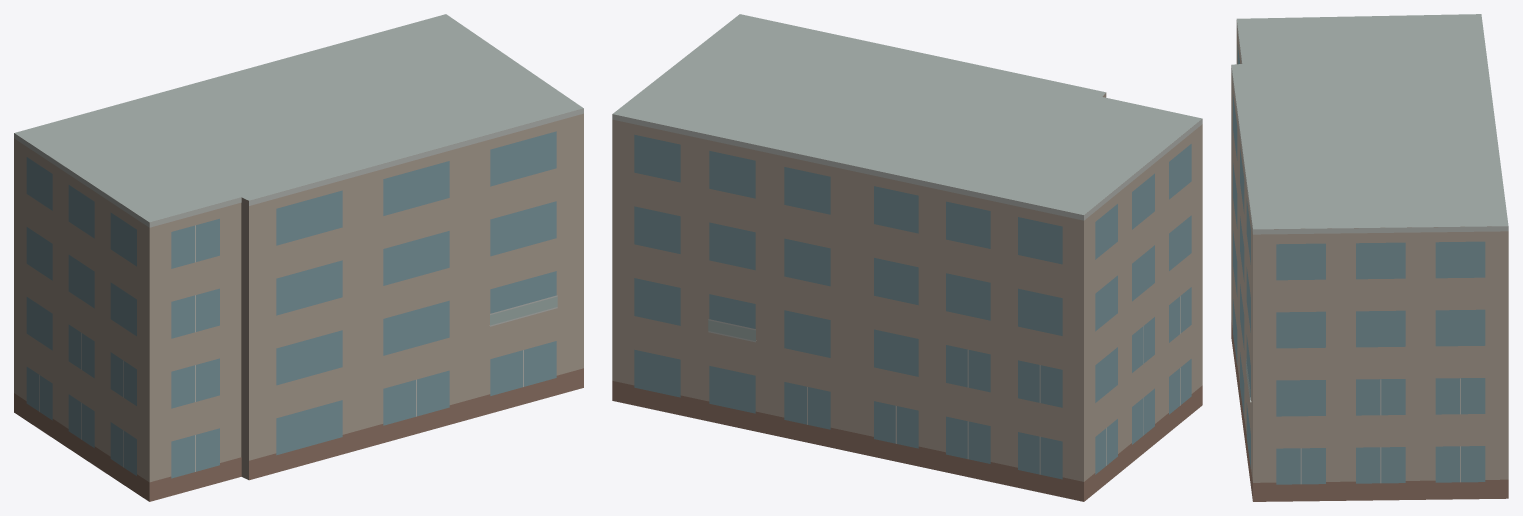
Rendered from survey-upis-32701667.glb.
The picture shows the model from 3 angles, left to right: view 1: azimuth 30°, elevation 25°; view 2: azimuth 150°, elevation 25°; view 3: azimuth 270°, elevation 25°; orthographic projection. The views are drawn at different scales.
Visible parts, largest first — view 1: survey-upis-32701667.tmp; view 2: survey-upis-32701667.tmp; view 3: survey-upis-32701667.tmp.
Part boxes in pixels (x1,y1,x2,y2): survey-upis-32701667.tmp: (14, 14, 583, 501); survey-upis-32701667.tmp: (612, 14, 1202, 501); survey-upis-32701667.tmp: (1231, 14, 1508, 501).
Size of the model in its own units: 21.71 by 12.8 by 11.81.
